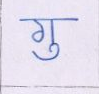u_matra: (32, 43, 62, 61)
